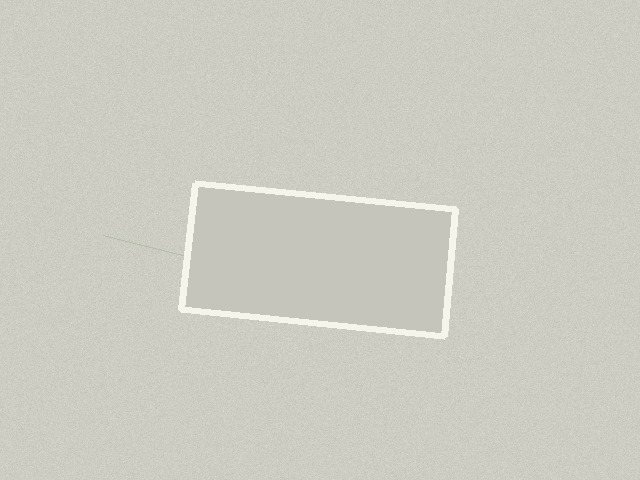parking_area: (181, 183, 455, 336)
